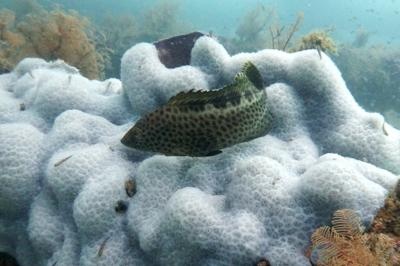Serranidae -Groupers-: (118, 61, 276, 163)
